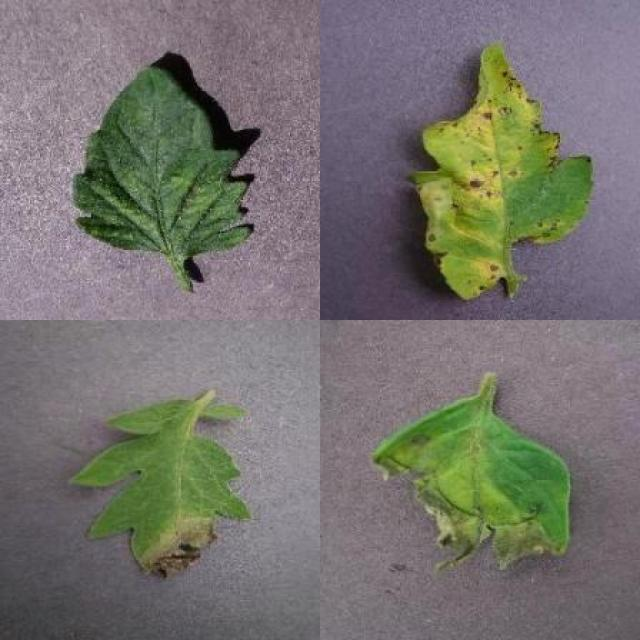Late Blight: (370, 389, 573, 574), (65, 398, 248, 583)
Mosaic Virus: (72, 66, 255, 256)
Septoria: (407, 38, 592, 303)
